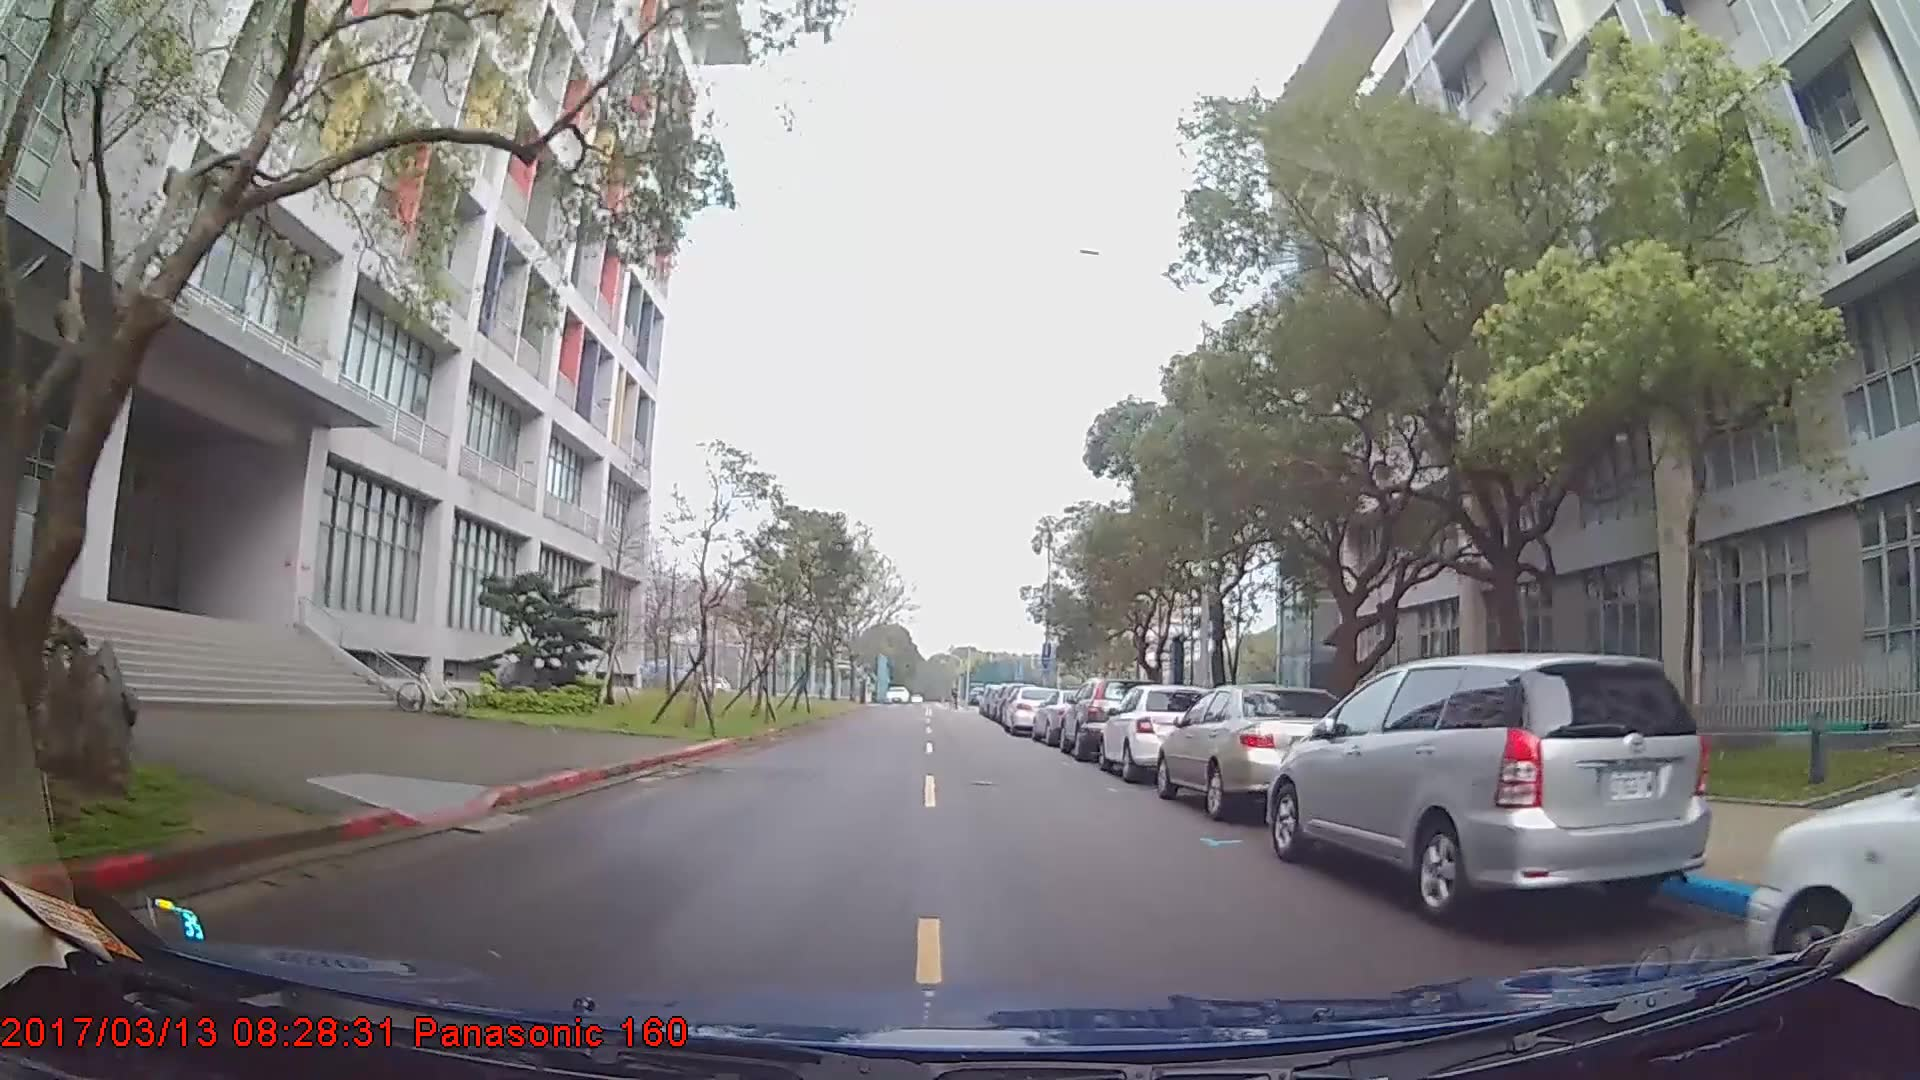vehicle: (1265, 649, 1710, 920), (1156, 680, 1357, 818), (1097, 680, 1211, 781), (1056, 674, 1151, 757), (1000, 683, 1062, 737)
